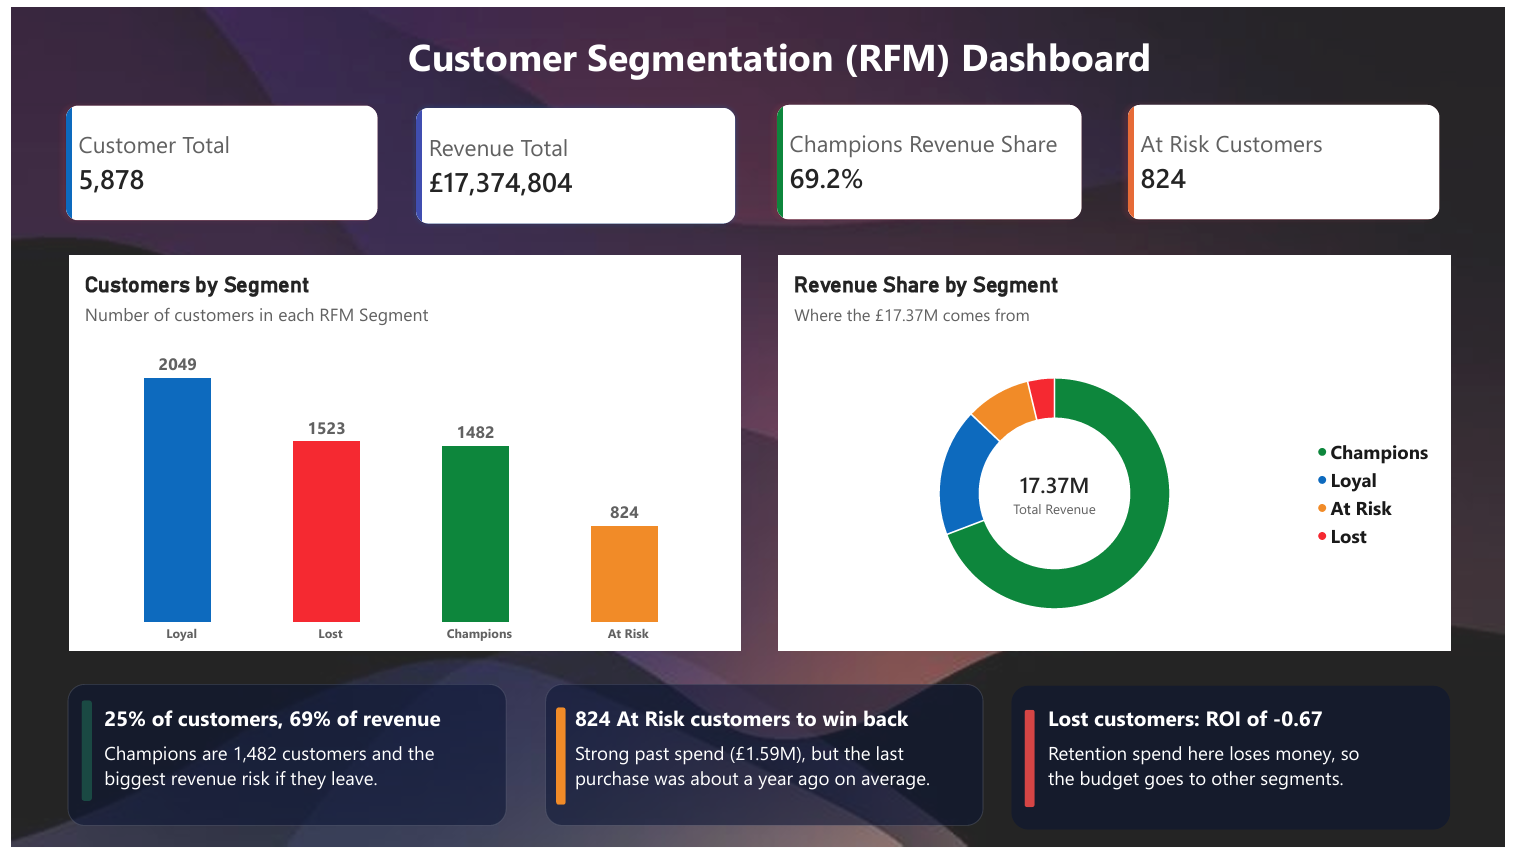

What the dashboard file says about the page in this screenshot:
{"tool":"powerbi","page":{"name":"Customer Segments","canvas":[1920,1080],"ordinal":0},"visuals":[{"type":"clusteredColumnChart","title":"Customers by Segment","fields":{"Category":["segment_summary.Segment"],"Y":["Sum(segment_summary.Customers)"]},"box":[74.2,318.5,863.2,508.5],"z":0},{"type":"donutChart","title":"Revenue Share by Segment","fields":{"Category":["segment_summary.Segment"],"Y":["Sum(segment_summary.Total_Revenue)"]},"box":[986.3,318.5,863.9,508.5],"z":1000},{"type":"cardVisual","title":"Total customer","fields":{"Data":["segment_summary.Customer Total"]},"box":[54.3,110.4,432.5,179.2],"z":2000},{"type":"cardVisual","title":"Total revenue","fields":{"Data":["rfm_segments.Revenue Total"]},"box":[508.5,117.6,432.5,170.1],"z":3000},{"type":"textbox","box":[506.7,29,960.9,94.1],"z":4000},{"type":"cardVisual","title":"Total customer","fields":{"Data":["rfm_segments.Champions Revenue Share"]},"box":[968.2,108.6,423.5,179.2],"z":5000},{"type":"cardVisual","title":"Total customer","fields":{"Data":["rfm_segments.At Risk Customers"]},"box":[1418.8,108.6,432.5,179.2],"z":6000},{"type":"shape","box":[685.9,868.6,563.5,182.8],"z":7000},{"type":"shape","box":[1284.9,871.2,564.3,184.6],"z":8000},{"type":"textbox","box":[723.9,894,432.5,43.4],"z":10000},{"type":"textbox","box":[723.9,941,486.8,94.1],"z":11000},{"type":"textbox","box":[1331.9,894,389.1,61.5],"z":12000},{"type":"textbox","box":[1331.9,941,407.2,94.1],"z":14000},{"type":"shape","box":[90.5,890.4,12.7,128.5],"z":15000},{"type":"shape","box":[700.3,899.4,12,124.9],"z":16000},{"type":"shape","box":[1302.2,901.9,12.7,124.9],"z":17000},{"type":"shape","box":[72.4,868.6,563.5,182.8],"z":17001},{"type":"textbox","box":[119.4,894,481.4,61.5],"z":17002},{"type":"textbox","box":[119.4,941,456,83.2],"z":17004}]}

Visuals, with their boxes in screenshot pixels (x1, y1, x2, y2), scaled from the page's 1920x1080 canvas onto the 1516x855 screenshot:
"Customers by Segment" clusteredColumnChart: 59/252/740/655
"Revenue Share by Segment" donutChart: 779/252/1461/655
"Total customer" cardVisual: 43/87/384/229
"Total revenue" cardVisual: 402/93/743/228
textbox: 400/23/1159/97
"Total customer" cardVisual: 764/86/1099/228
"Total customer" cardVisual: 1120/86/1462/228
shape: 542/688/987/832
shape: 1015/690/1460/836
textbox: 572/708/913/742
textbox: 572/745/956/819
textbox: 1052/708/1359/756
textbox: 1052/745/1373/819
shape: 71/705/81/807
shape: 553/712/562/811
shape: 1028/714/1038/813
shape: 57/688/502/832
textbox: 94/708/474/756
textbox: 94/745/454/811
